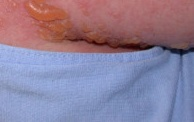SJS-TEN: (0, 0, 194, 57)
